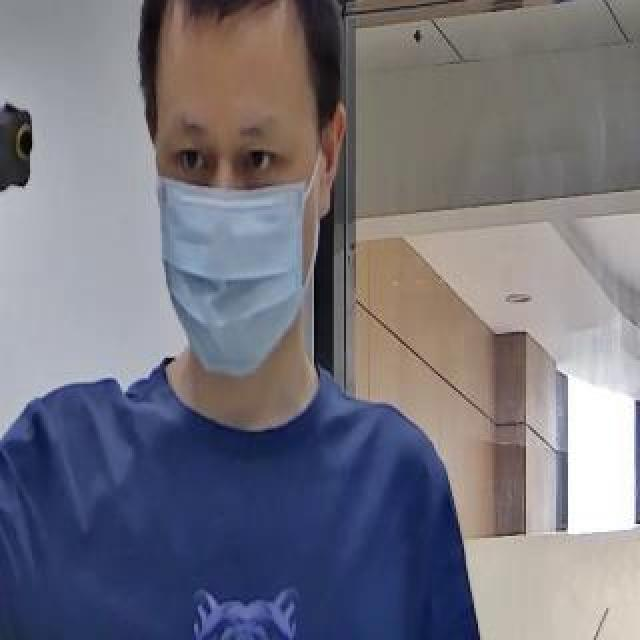Guns: (0, 40, 60, 350)
